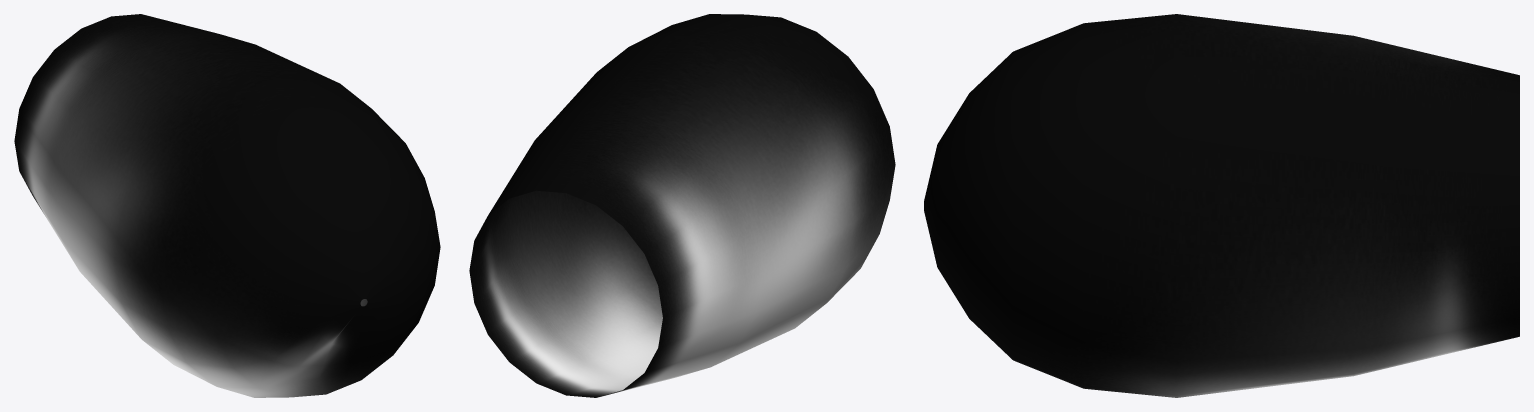
The model's file is sm_ProjectileFXCone.fbx.
The picture shows the model from 3 angles, left to right: view 1: azimuth 30°, elevation 25°; view 2: azimuth 150°, elevation 25°; view 3: azimuth 270°, elevation 25°; orthographic projection. The views are drawn at different scales.
Visible parts, largest first — view 1: sm_ProjectileFXCone; view 2: sm_ProjectileFXCone; view 3: sm_ProjectileFXCone.
Part boxes in pixels (x1,y1,x2,y2): sm_ProjectileFXCone: [14, 14, 440, 397]; sm_ProjectileFXCone: [469, 14, 895, 397]; sm_ProjectileFXCone: [924, 14, 1519, 397].
Bounding box in the file's own units: 29.35 × 29.31 × 45.2.
Materials: 1 (1 with a texture image).
